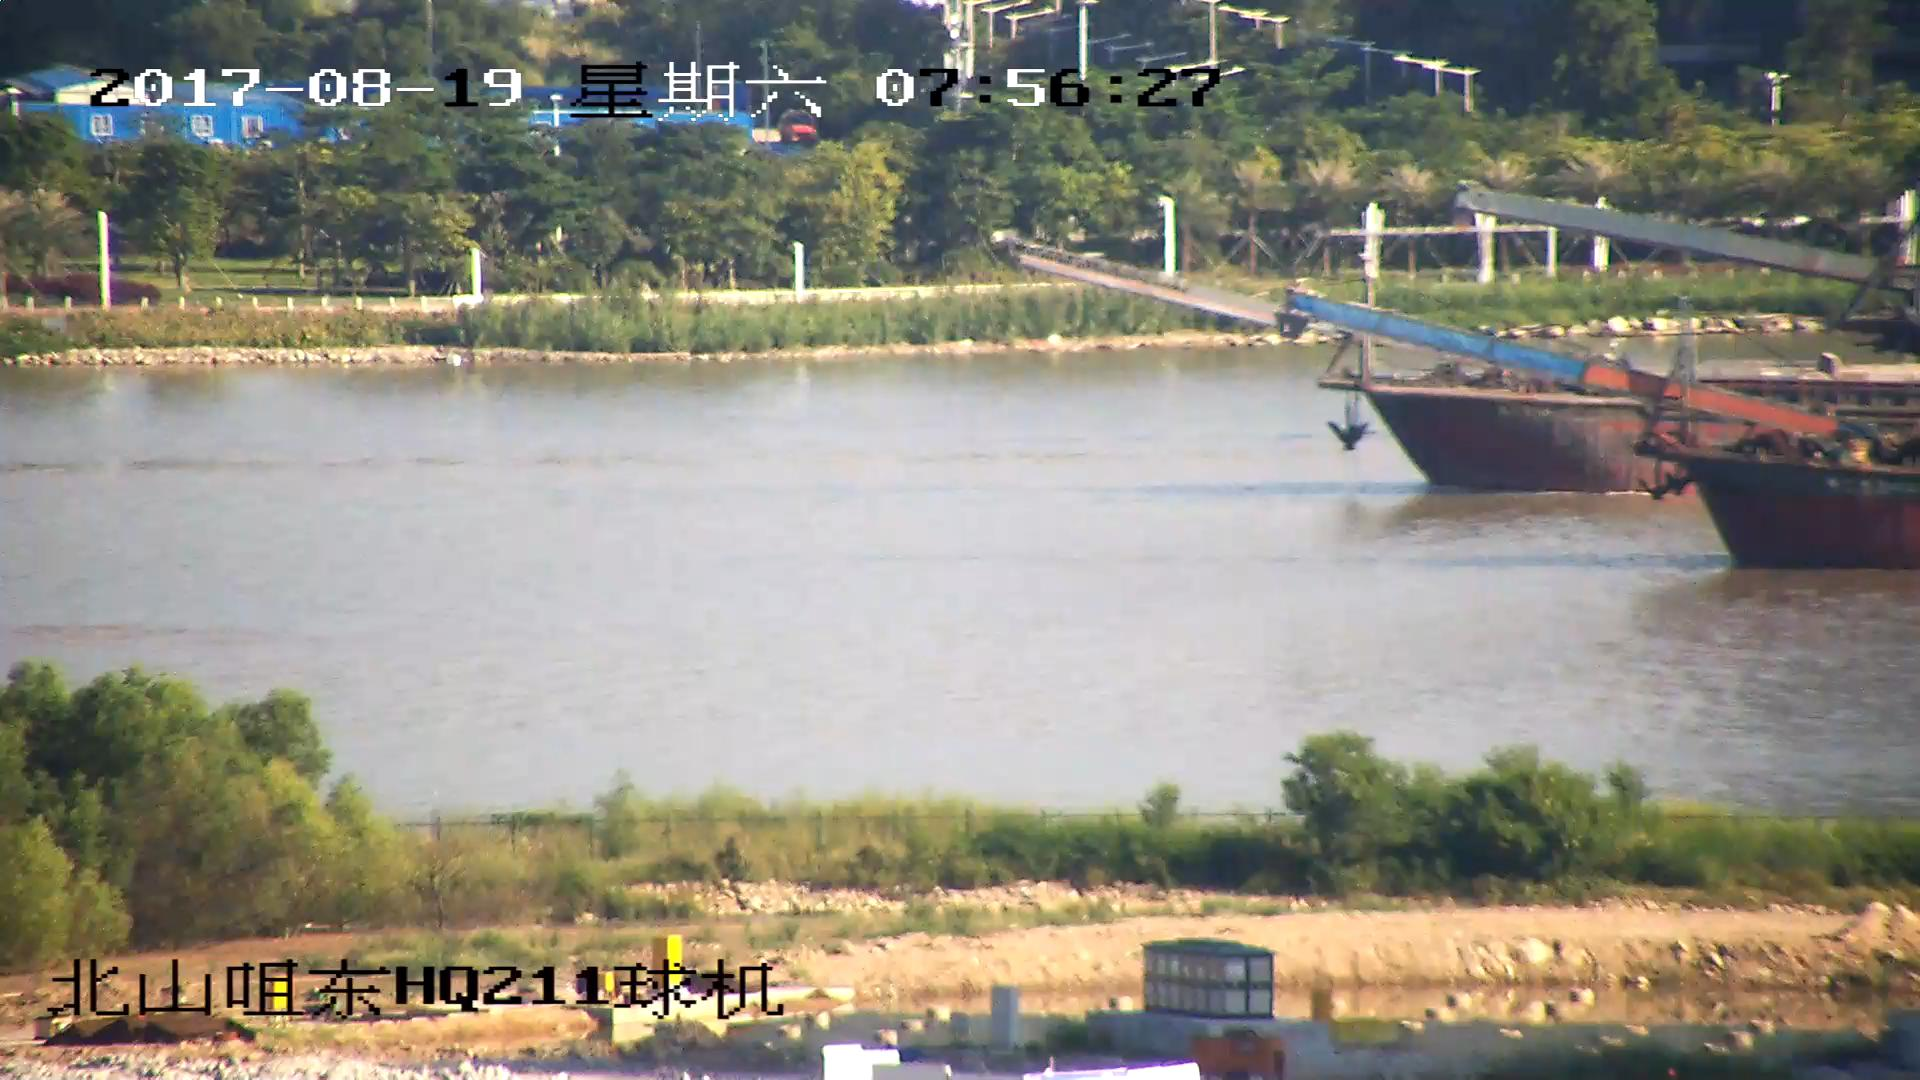bulk cargo carrier: (1287, 288, 1920, 568), (999, 238, 1637, 505), (1465, 188, 1920, 358)
